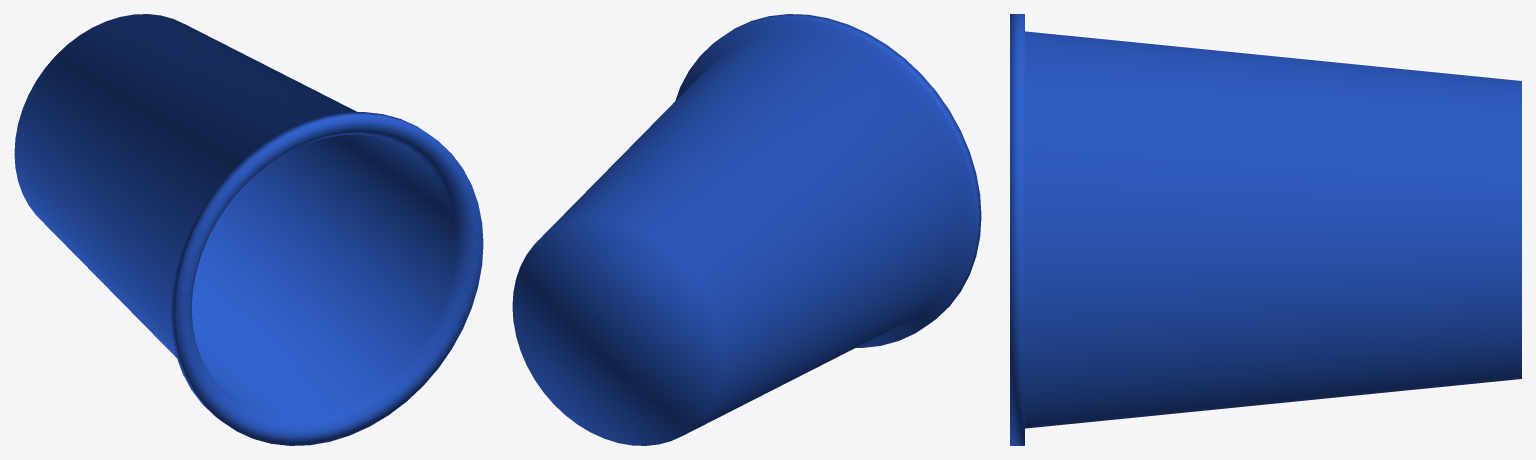
The model's file is Cup_Blue.obj.
The picture shows the model from 3 angles, left to right: view 1: azimuth 30°, elevation 25°; view 2: azimuth 150°, elevation 25°; view 3: azimuth 270°, elevation 25°; orthographic projection. The views are drawn at different scales.
Parts seen in each view (by area): view 1: Cup_Blue; view 2: Cup_Blue; view 3: Cup_Blue.
Boxes of the visible parts, left/top/right/bottom form: Cup_Blue: left=14, top=14, right=483, bottom=445; Cup_Blue: left=512, top=14, right=981, bottom=445; Cup_Blue: left=1010, top=14, right=1521, bottom=445.
Bounding box in the file's own units: 0.087 × 0.087 × 0.103.
